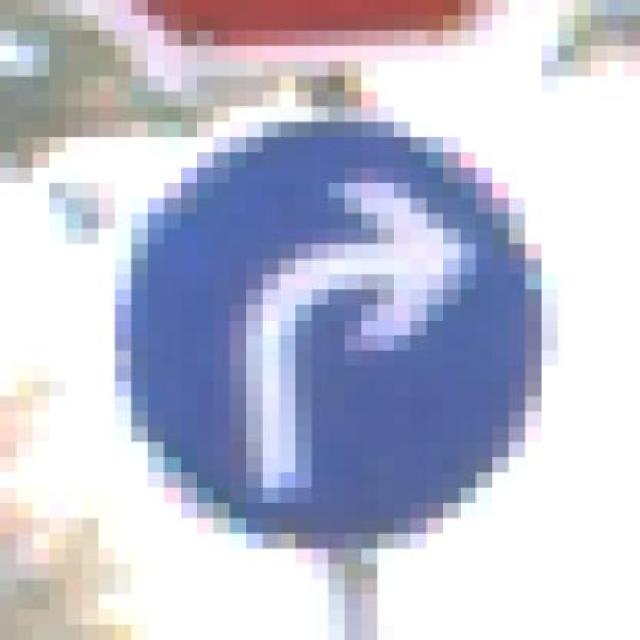Turn right ahead: (81, 76, 558, 564)
